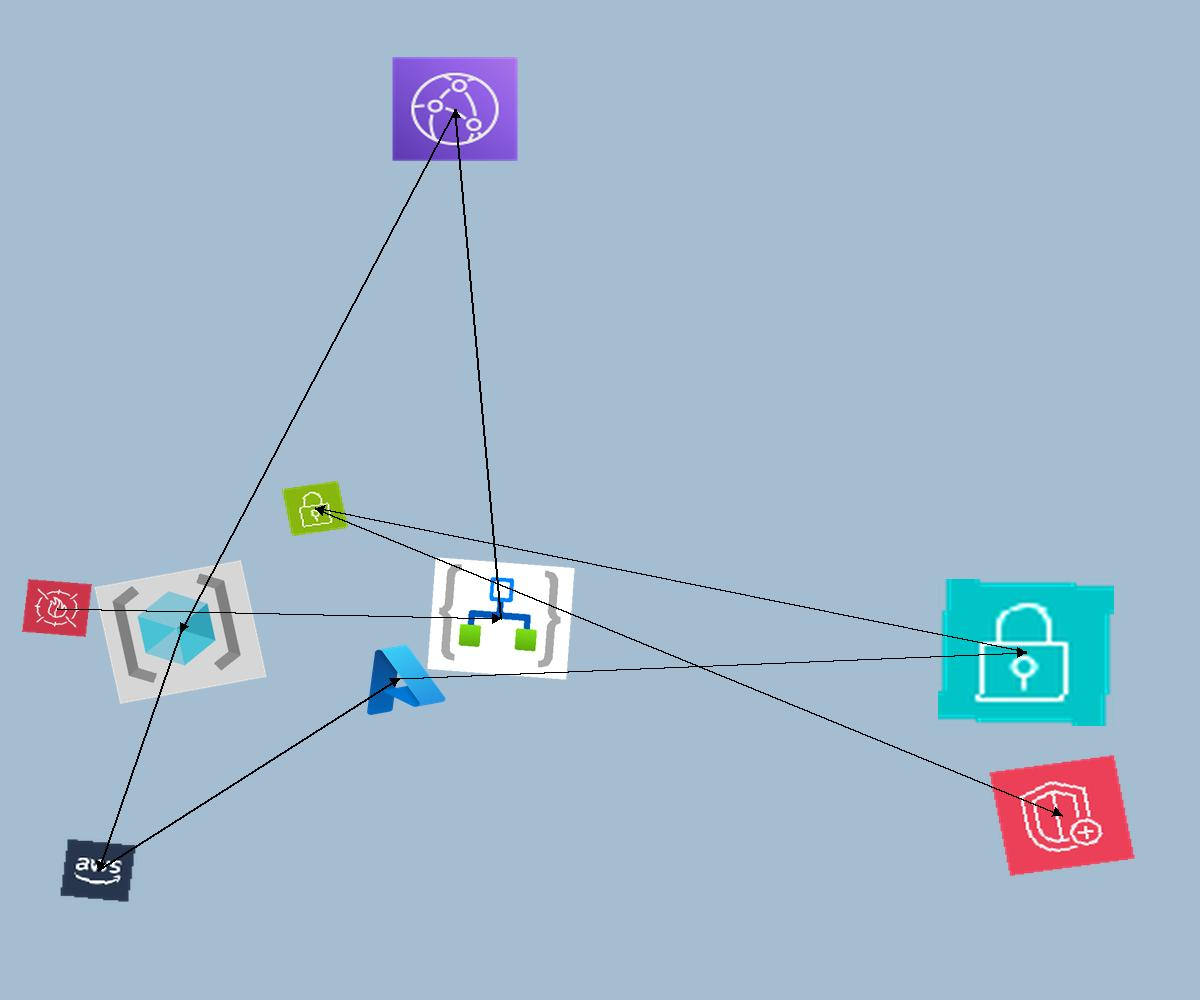AWS-Cloud-logo: (59, 838, 137, 903)
AWS-CloudFront: (391, 56, 519, 162)
AWS-Private-subnet: (938, 579, 1114, 726)
AWS-Public-subnet: (281, 480, 349, 537)
AWS-Shield: (988, 754, 1136, 877)
AWS-WAF: (22, 579, 92, 637)
Azure_integration-204-Logic-Apps: (427, 557, 575, 680)
Azure_resource_group: (94, 560, 267, 704)
Azure_services: (347, 635, 451, 721)
